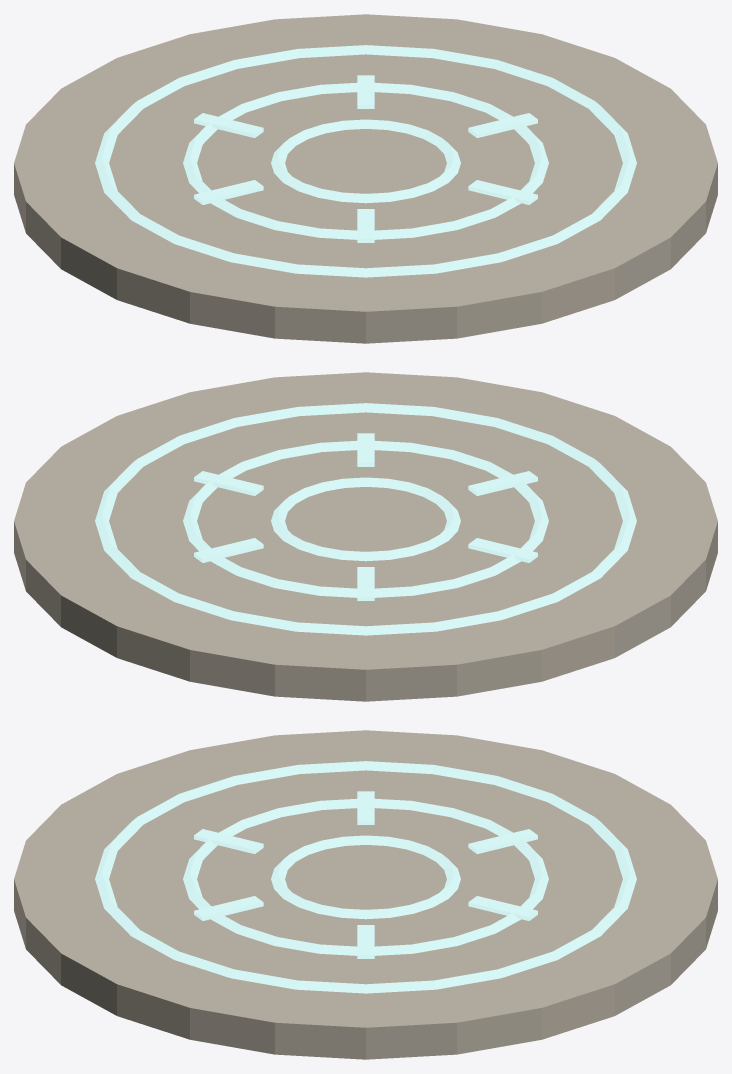
The model's file is ResonancePlate.fbx.
3 renders of one model, top to bottom at view 1: azimuth 30°, elevation 25°; view 2: azimuth 150°, elevation 25°; view 3: azimuth 270°, elevation 25°, orthographic.
Parts seen in each view (by area): view 1: ResonancePlate; view 2: ResonancePlate; view 3: ResonancePlate.
Boxes of the visible parts, x1,y1,x2,y2 form: ResonancePlate: (14, 14, 717, 343); ResonancePlate: (14, 372, 717, 701); ResonancePlate: (14, 730, 717, 1059).
Bounding box in the file's own units: 80 × 4.8 × 80.
